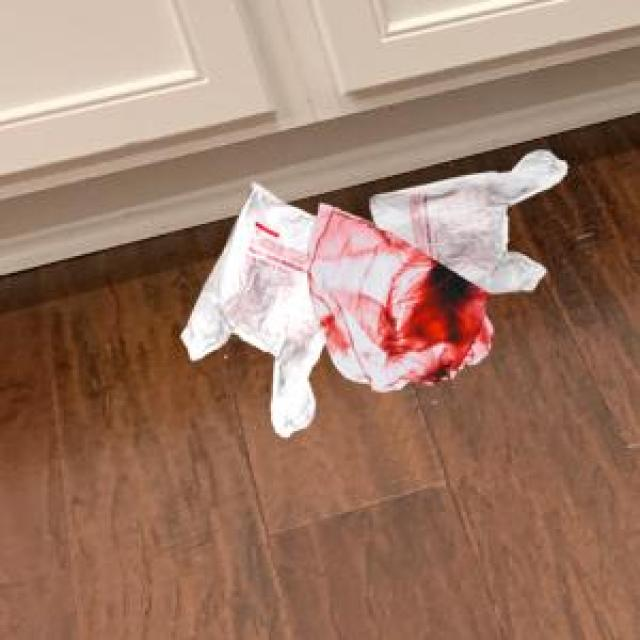plastic: (180, 154, 624, 441)
